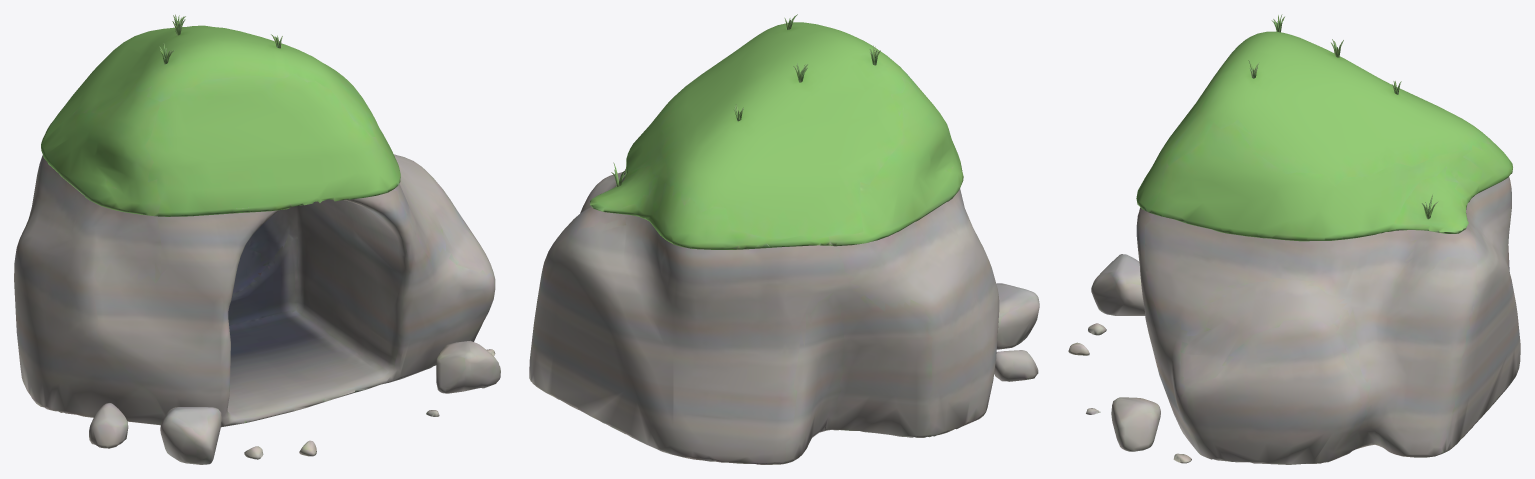
The model's file is cave.glb.
The picture shows the model from 3 angles, left to right: view 1: azimuth 30°, elevation 25°; view 2: azimuth 150°, elevation 25°; view 3: azimuth 270°, elevation 25°; orthographic projection. The views are drawn at different scales.
Visible parts, largest first — view 1: cave-entrance_body; view 2: cave-entrance_body; view 3: cave-entrance_body.
Part boxes in pixels (box(x1,y1,x2,y2)): cave-entrance_body: box(14, 14, 500, 464); cave-entrance_body: box(529, 14, 1039, 464); cave-entrance_body: box(1068, 14, 1520, 464).
Bounding box in the file's own units: 5.05 × 3.96 × 5.08.
1 material, 1 textured.
